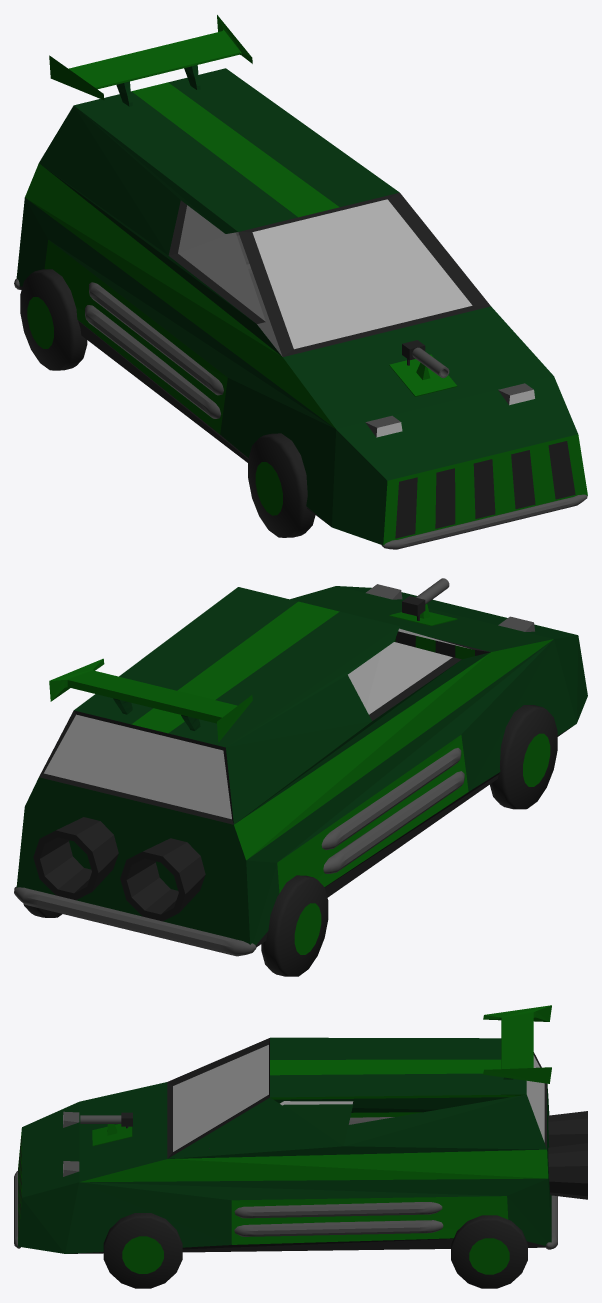
Rendered from car1.fbx.
3 views of the same model, one above another, from view 1: azimuth 30°, elevation 25°; view 2: azimuth 150°, elevation 25°; view 3: azimuth 270°, elevation 25° (orthographic). The views are drawn at different scales.
Parts seen in each view (by area): view 1: Car, Spoiler, FLW, RLW, pCylinder4, pCylinder3, pCylinder6, pCube1; view 2: Car, FLW, Spoiler, RLW, Rthrust, Lthrust, pCylinder5, pCylinder4, pCylinder3, pCube1; view 3: Car, FRW, RRW, Spoiler, pCylinder2, pCylinder1, Lthrust, Rthrust, pCube1, pCylinder5, pPipe1.
Part boxes in pixels (left/top/right/bottom): Car: left=16, top=68, right=587, bottom=545; Spoiler: left=49, top=15, right=252, bottom=106; FLW: left=248, top=433, right=315, bottom=537; RLW: left=20, top=269, right=87, bottom=370; pCylinder4: left=85, top=305, right=220, bottom=418; pCylinder3: left=89, top=282, right=223, bottom=395; pCylinder6: left=381, top=494, right=587, bottom=549; pCube1: left=389, top=354, right=457, bottom=396; Car: left=16, top=584, right=587, bottom=947; FLW: left=490, top=705, right=557, bottom=809; Spoiler: left=49, top=658, right=252, bottom=742; RLW: left=261, top=875, right=328, bottom=976; Rthrust: left=120, top=838, right=205, bottom=921; Lthrust: left=33, top=817, right=118, bottom=900; pCylinder5: left=14, top=886, right=256, bottom=956; pCylinder4: left=323, top=771, right=464, bottom=873; pCylinder3: left=321, top=748, right=461, bottom=850; pCube1: left=389, top=604, right=457, bottom=625; Car: left=17, top=1037, right=551, bottom=1253; FRW: left=103, top=1213, right=182, bottom=1288; RRW: left=451, top=1215, right=527, bottom=1288; Spoiler: left=483, top=1005, right=551, bottom=1083; pCylinder2: left=234, top=1220, right=443, bottom=1236; pCylinder1: left=234, top=1202, right=442, bottom=1218; Lthrust: left=548, top=1143, right=587, bottom=1199; Rthrust: left=548, top=1111, right=587, bottom=1147; pCube1: left=92, top=1124, right=132, bottom=1146; pCylinder5: left=546, top=1195, right=557, bottom=1249; pPipe1: left=80, top=1115, right=121, bottom=1123.
Bounding box in the file's own units: 3.69 × 3.59 × 9.07.
